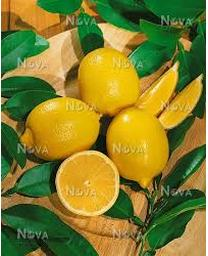lemon: (20, 98, 100, 161), (107, 107, 169, 188), (56, 151, 121, 218), (79, 49, 140, 113)
